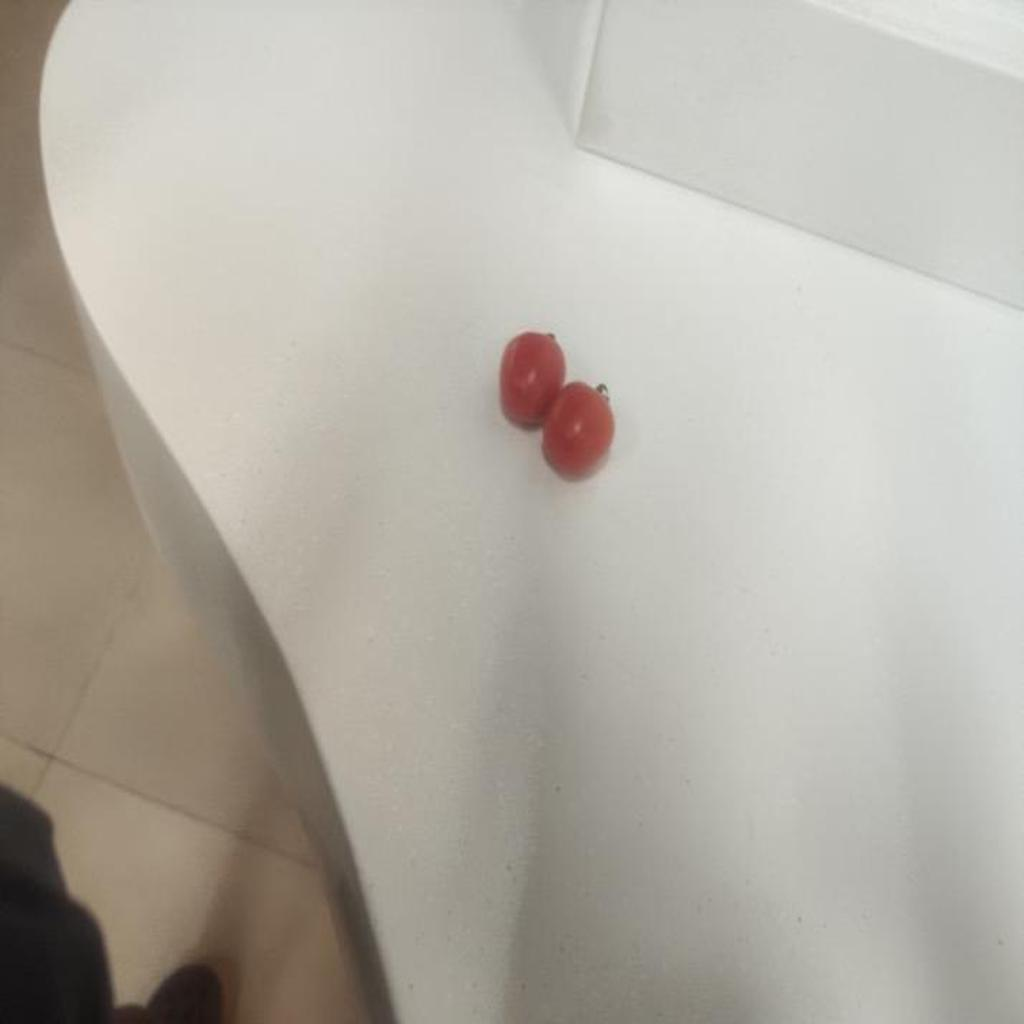tomato: (547, 386, 626, 477), (497, 331, 564, 432)
